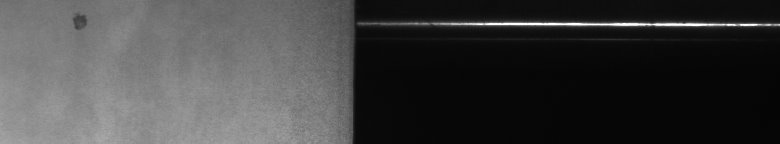fi: (68, 8, 92, 36)
